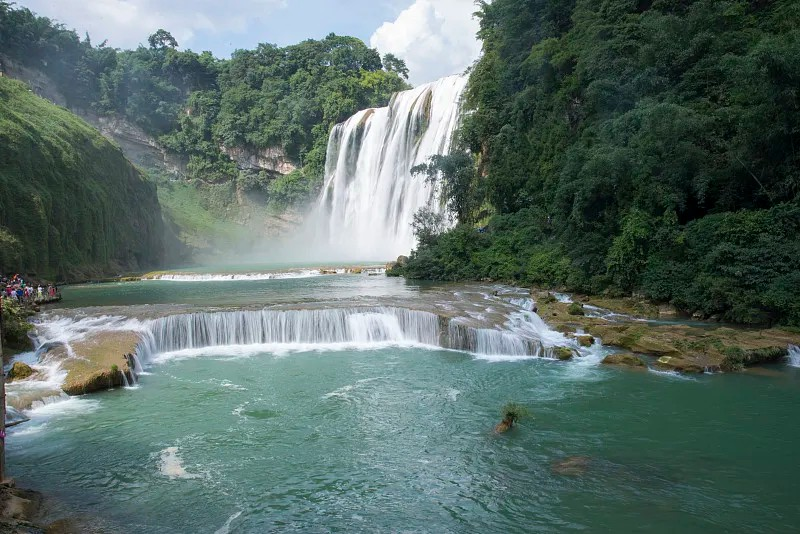Huangguoshu: (314, 76, 470, 262)
